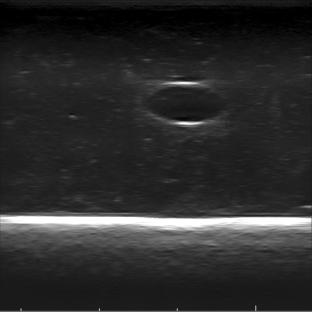vessel: (144, 81, 228, 128)
